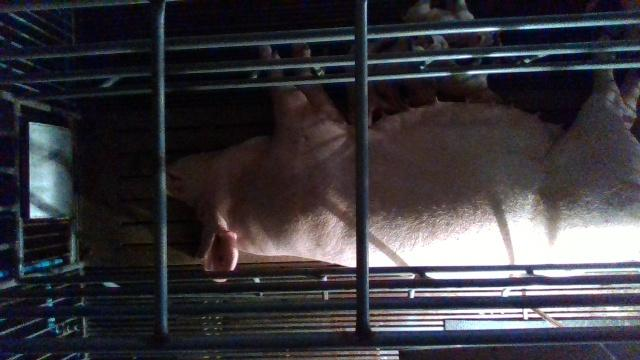piglet: (412, 36, 500, 100), (388, 35, 450, 107), (399, 0, 496, 44), (349, 35, 386, 126)
sow-sleep-lactate: (165, 45, 640, 282)
